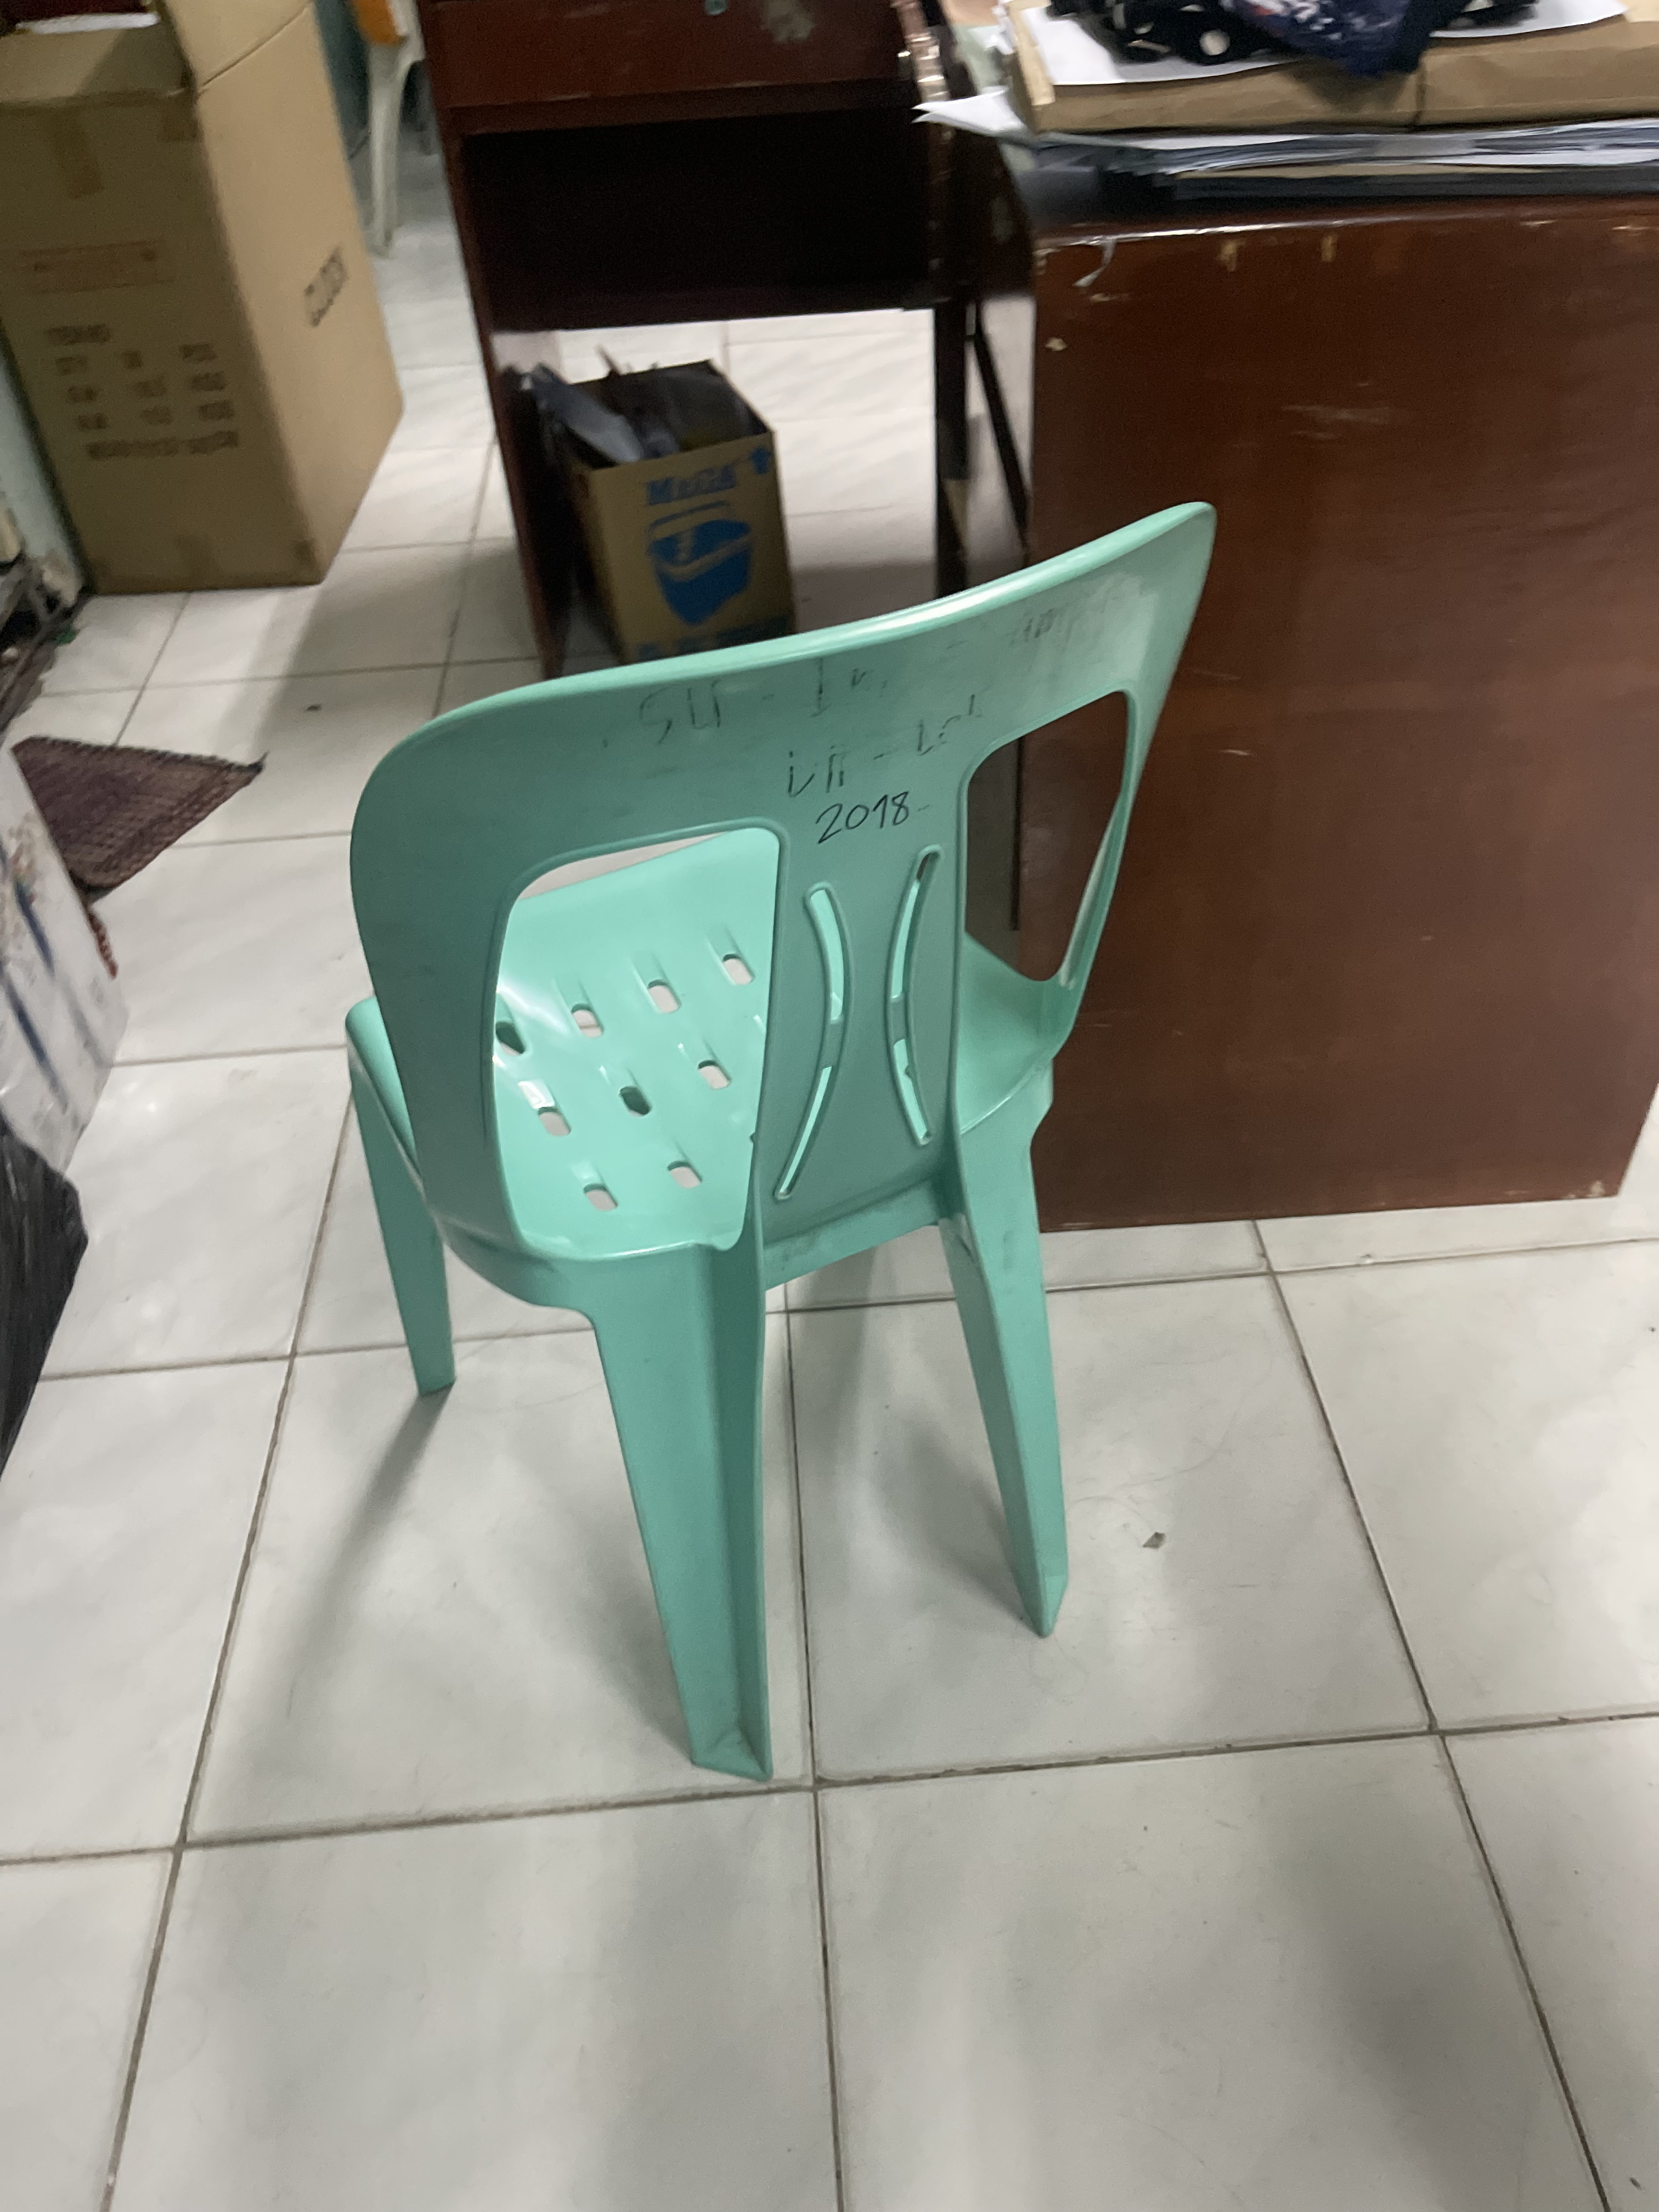chair2: (321, 488, 1256, 1811)
